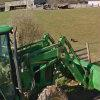Tractor: (15, 15, 100, 100)
